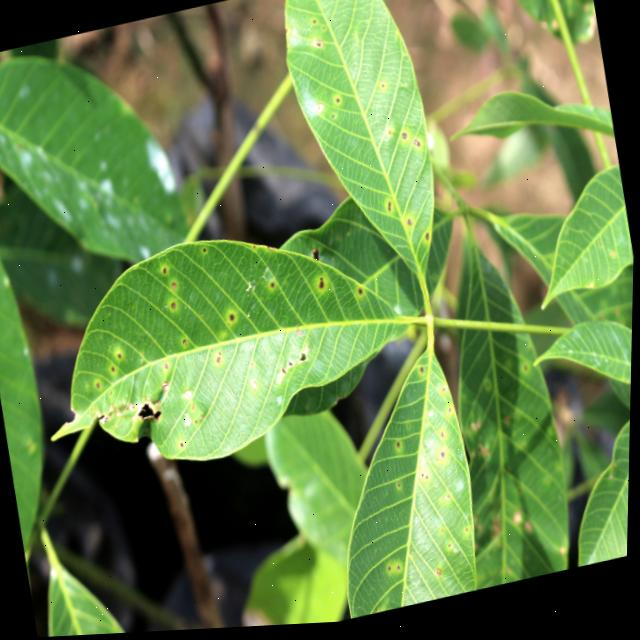Colletotrichum: (185, 391, 193, 402), (316, 106, 324, 115), (252, 382, 259, 392), (173, 283, 178, 292), (402, 136, 408, 143), (217, 358, 223, 365), (231, 316, 236, 324), (172, 303, 177, 311), (166, 365, 170, 370), (400, 486, 403, 491)
